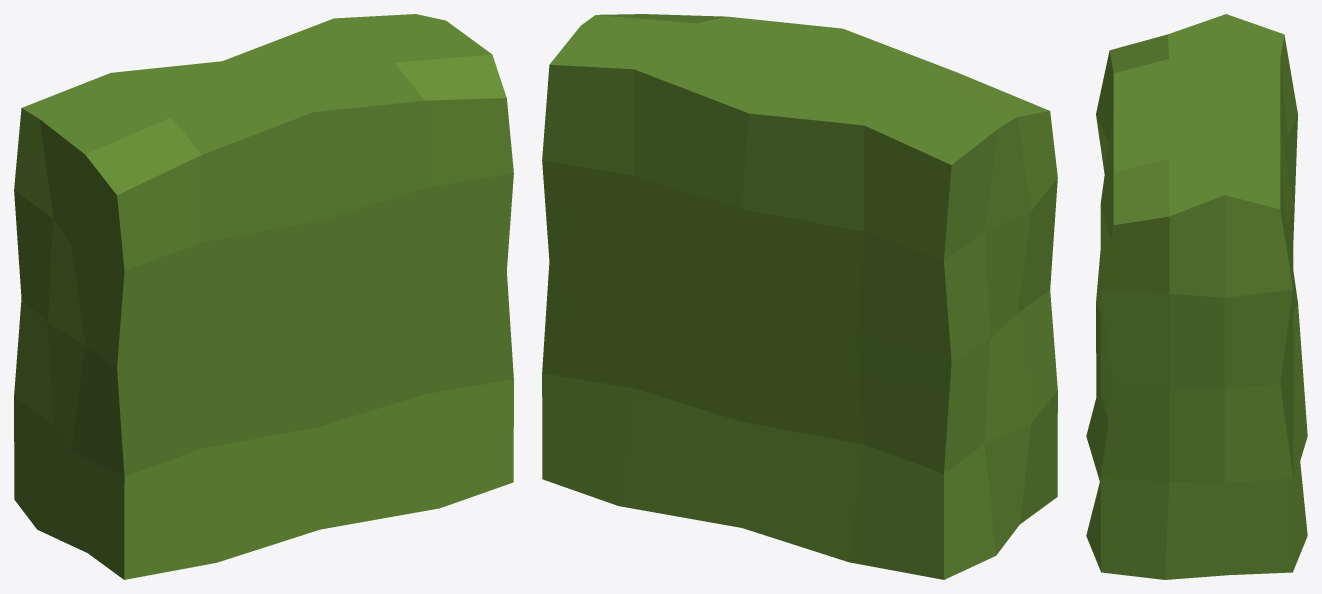
The picture shows the model from 3 angles, left to right: view 1: azimuth 30°, elevation 25°; view 2: azimuth 150°, elevation 25°; view 3: azimuth 270°, elevation 25°; orthographic projection. The views are drawn at different scales.
Visible parts, largest first — view 1: Bush Wall; view 2: Bush Wall; view 3: Bush Wall.
Boxes of the visible parts, <box> form: Bush Wall: <box>14,14,513,579</box>; Bush Wall: <box>542,14,1057,579</box>; Bush Wall: <box>1086,14,1307,579</box>.
Size of the model in its own units: 2.15 by 2 by 1.06.
1 material, 1 textured.
